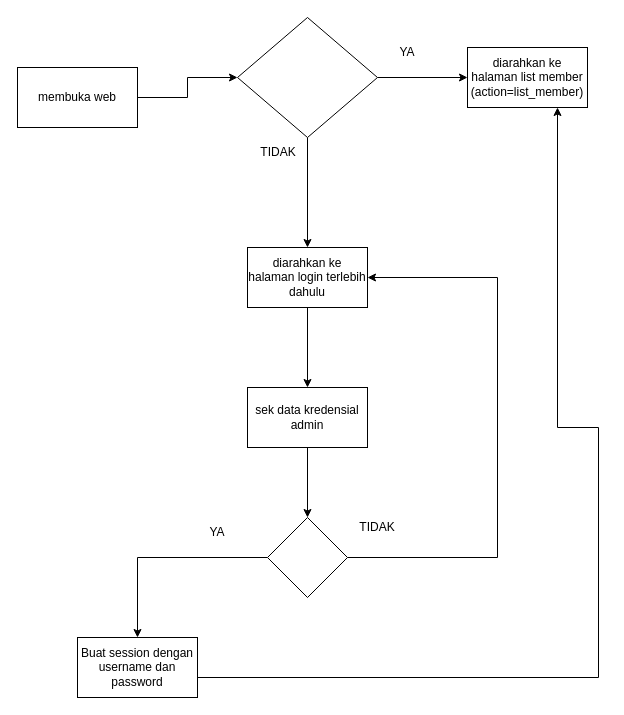
Some shapes in this 624 by 715 pixel diagram are drawn without their labels. Here are the shapes that lost their labels. From the top down, the box of each, then its label:
(236, 16, 378, 138): cek sudah login atau belum
(266, 516, 348, 598): valid ?
